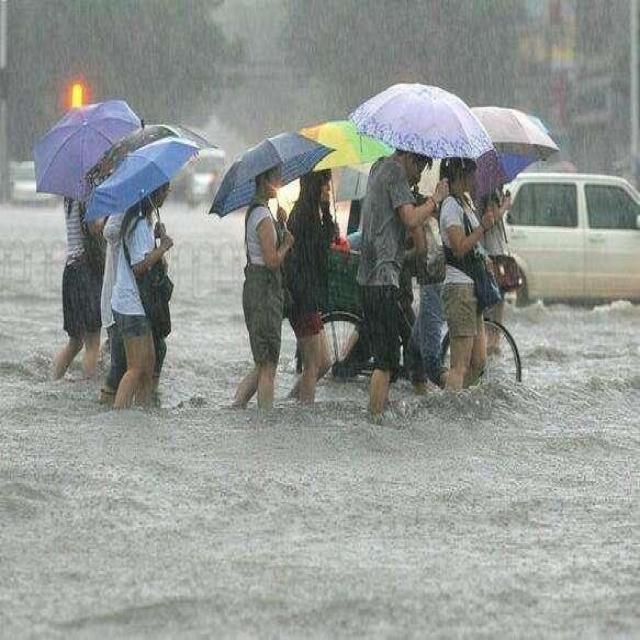car: (500, 170, 636, 302)
